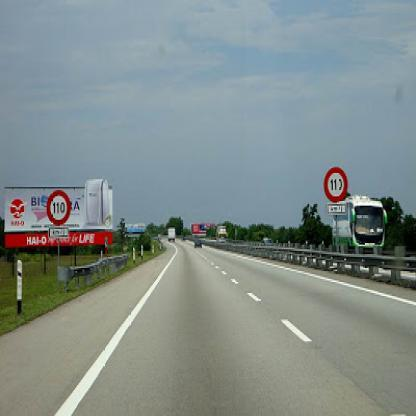Speed Limit 110: (47, 191, 71, 226), (324, 167, 348, 202)
